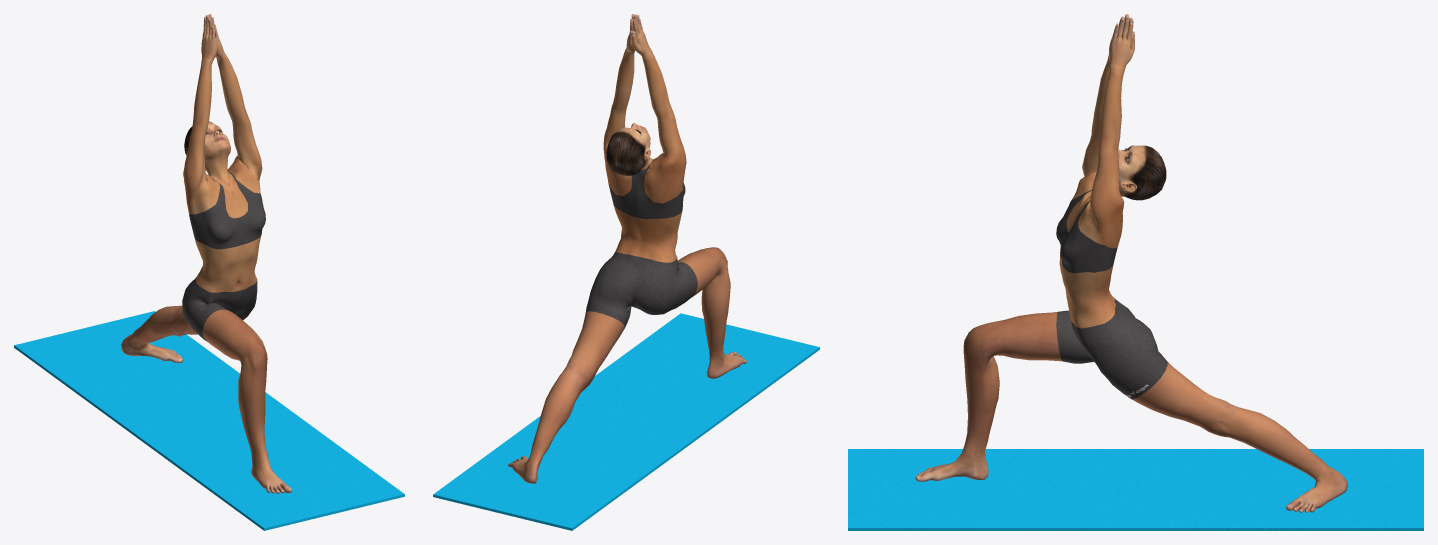
File: virabhadrasana_i.glb
The picture shows the model from 3 angles, left to right: view 1: azimuth 30°, elevation 25°; view 2: azimuth 150°, elevation 25°; view 3: azimuth 270°, elevation 25°; orthographic projection. The views are drawn at different scales.
Visible parts, largest first — view 1: Mat-one-piece_jpg-material, Lily_Texture01_06_2016_jpg-material; view 2: Mat-one-piece_jpg-material, Lily_Texture01_06_2016_jpg-material; view 3: Mat-one-piece_jpg-material, Lily_Texture01_06_2016_jpg-material.
Boxes of the visible parts, box(x1,y1,x2,y2) form: Mat-one-piece_jpg-material: box(14, 311, 404, 530); Lily_Texture01_06_2016_jpg-material: box(121, 14, 291, 493); Mat-one-piece_jpg-material: box(433, 313, 819, 530); Lily_Texture01_06_2016_jpg-material: box(508, 14, 746, 483); Mat-one-piece_jpg-material: box(848, 449, 1423, 530); Lily_Texture01_06_2016_jpg-material: box(915, 14, 1347, 512).
Size of the model in its own units: 2 by 5.6 by 6.17.
3 materials, 2 textured.
